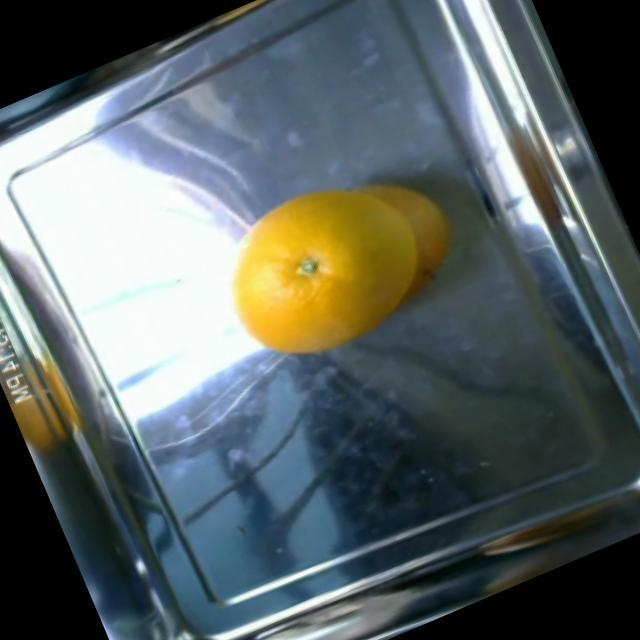Fruit: (257, 136, 485, 352)
